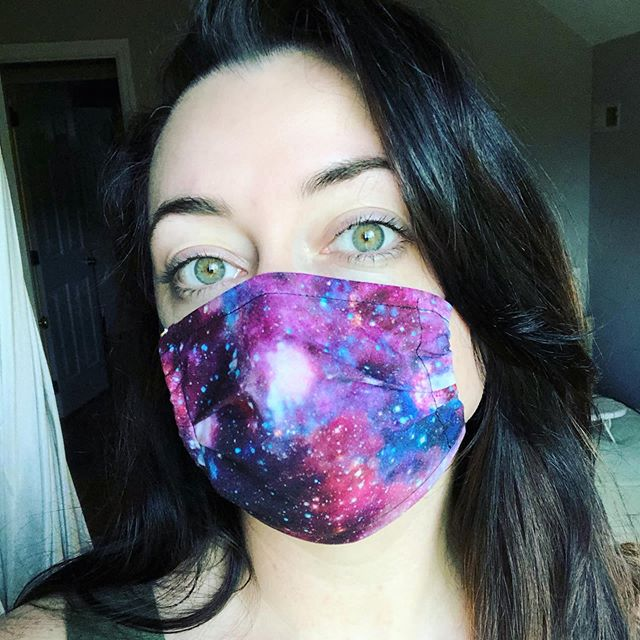homemade: (147, 285, 460, 542)
